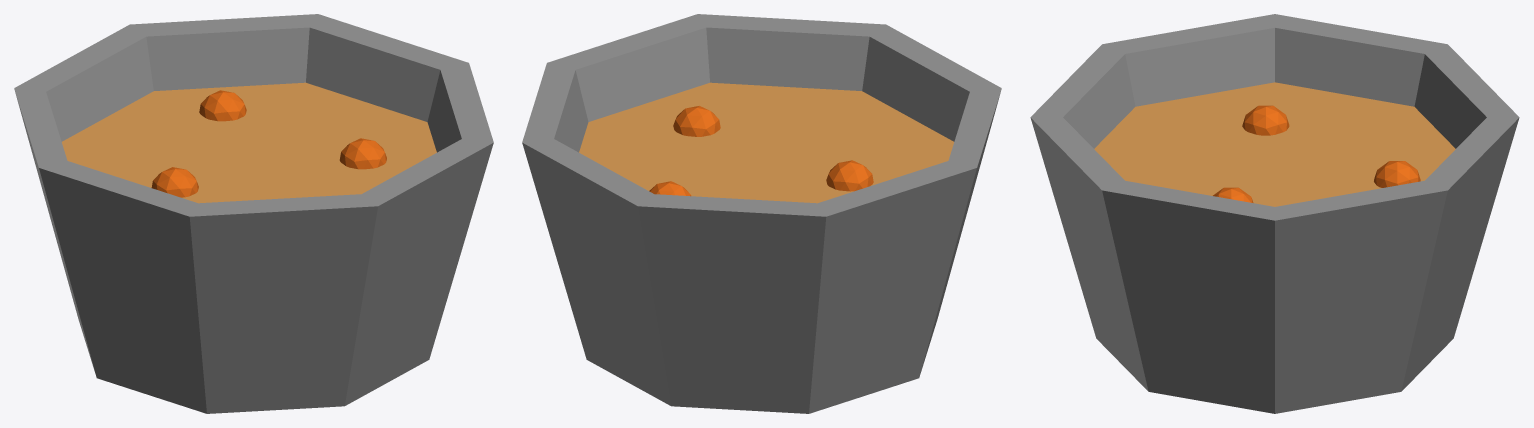
File: food.fbx
The picture shows the model from 3 angles, left to right: view 1: azimuth 30°, elevation 25°; view 2: azimuth 150°, elevation 25°; view 3: azimuth 270°, elevation 25°; orthographic projection.
Visible parts, largest first — view 1: foodpot, food, Icosphere.001, Icosphere.002, Icosphere; view 2: foodpot, food, Icosphere.001, Icosphere; view 3: foodpot, food, Icosphere, Icosphere.002.
Part boxes in pixels (box(x1,y1,x2,y2)): foodpot: box(14, 14, 493, 413); food: box(62, 82, 436, 203); Icosphere.001: box(339, 138, 386, 169); Icosphere.002: box(199, 90, 246, 121); Icosphere: box(151, 167, 198, 197); foodpot: box(522, 14, 1001, 413); food: box(579, 82, 953, 203); Icosphere.001: box(673, 106, 720, 136); Icosphere: box(826, 160, 873, 191); foodpot: box(1030, 14, 1519, 413); food: box(1094, 82, 1455, 206); Icosphere: box(1242, 105, 1289, 135); Icosphere.002: box(1374, 161, 1420, 187).
Size of the model in its own units: 206 by 103 by 206.
